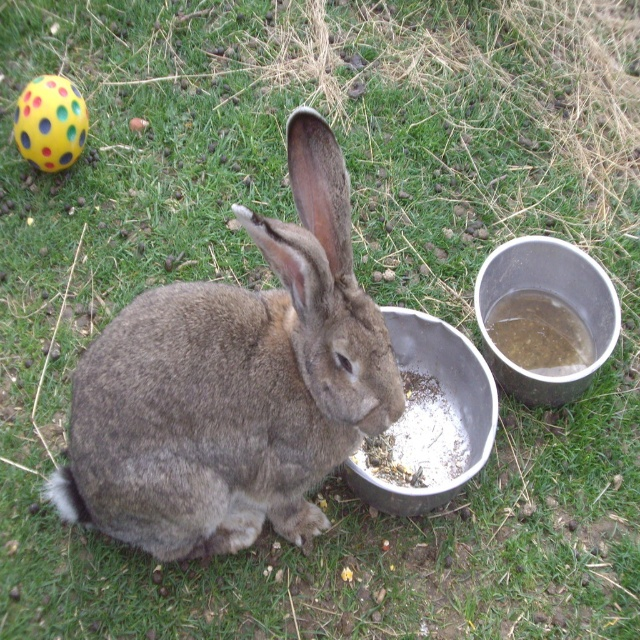Rabbit: (48, 107, 409, 560)
